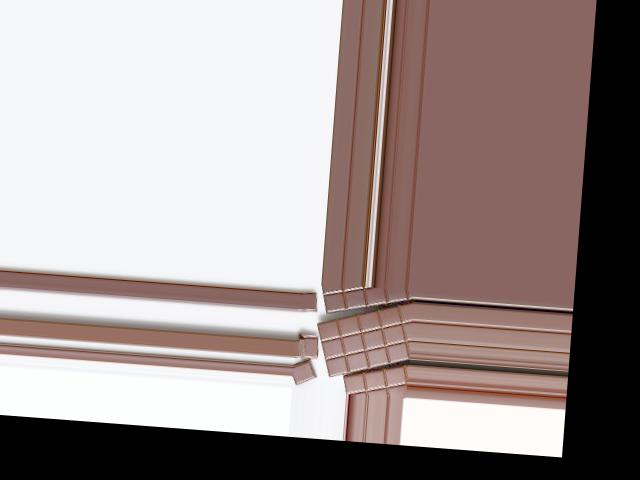chocolate: (314, 298, 414, 384)
